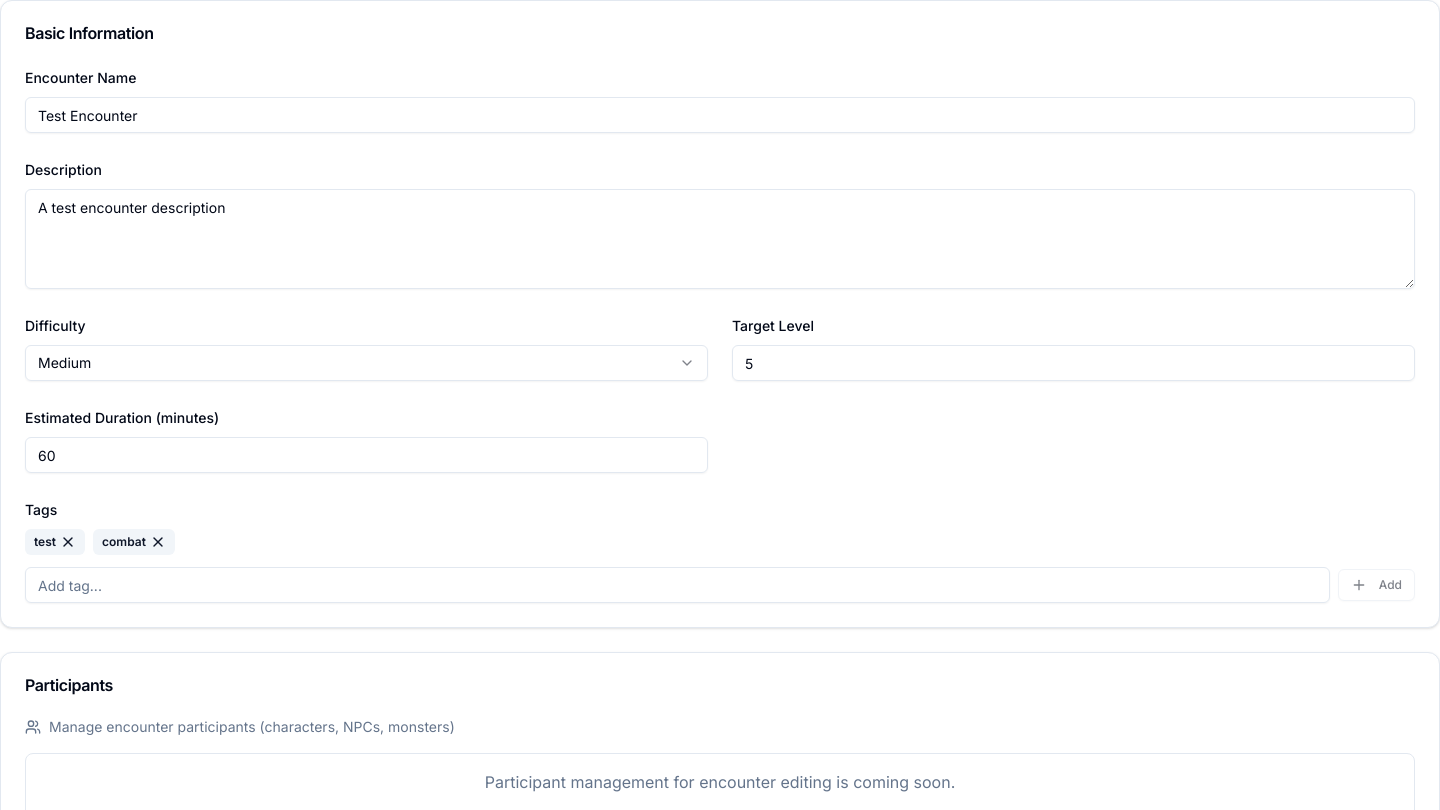
Test: EncounterEditForm › Tags Management › should allow adding new tags
Type "new-tag" into the field with placeholder "Add tag...".
click(677, 585); type("new-tag")  # box [25,567,1330,603]
Then press Enter
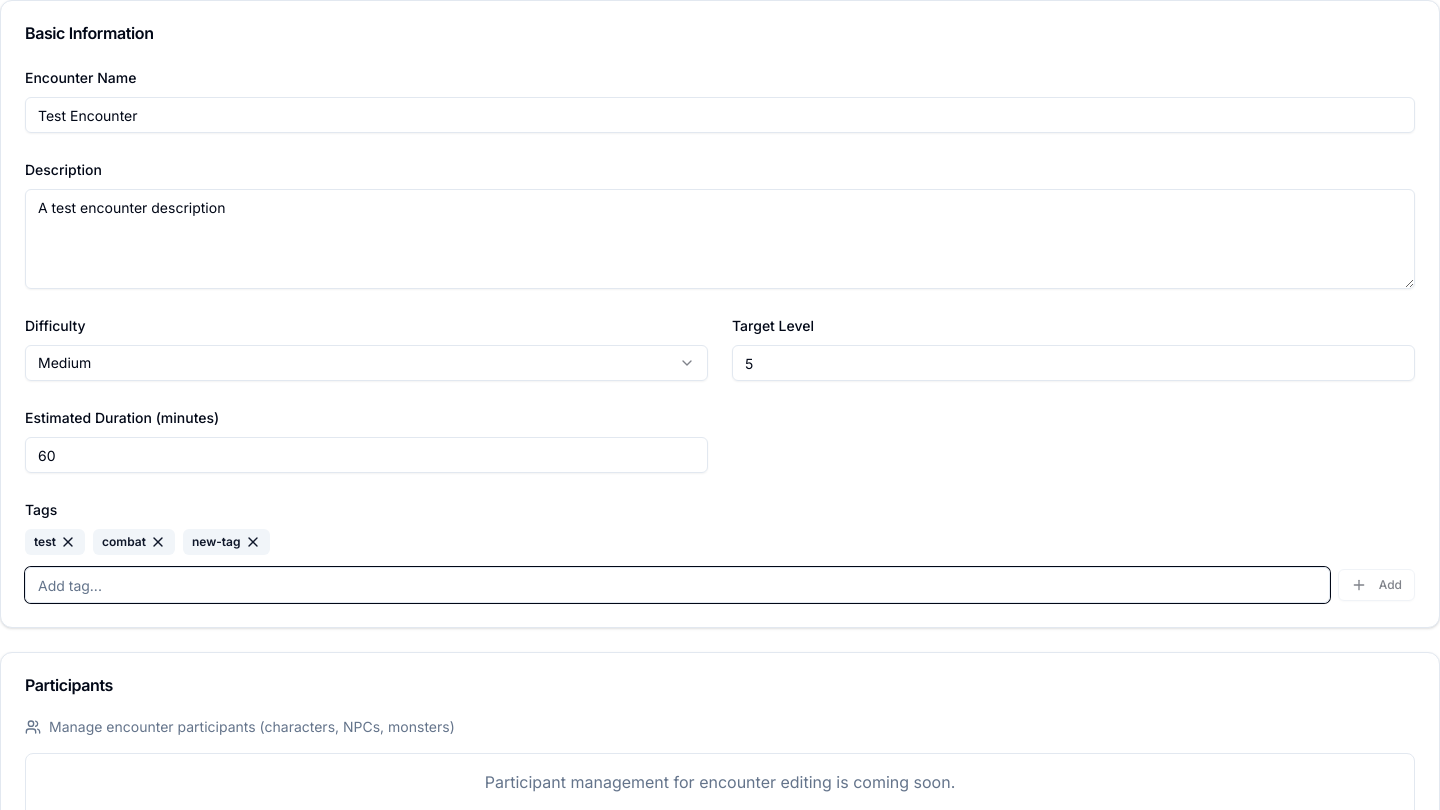
Expected: the text "new-tag" is shown, [192,534,240,550]
